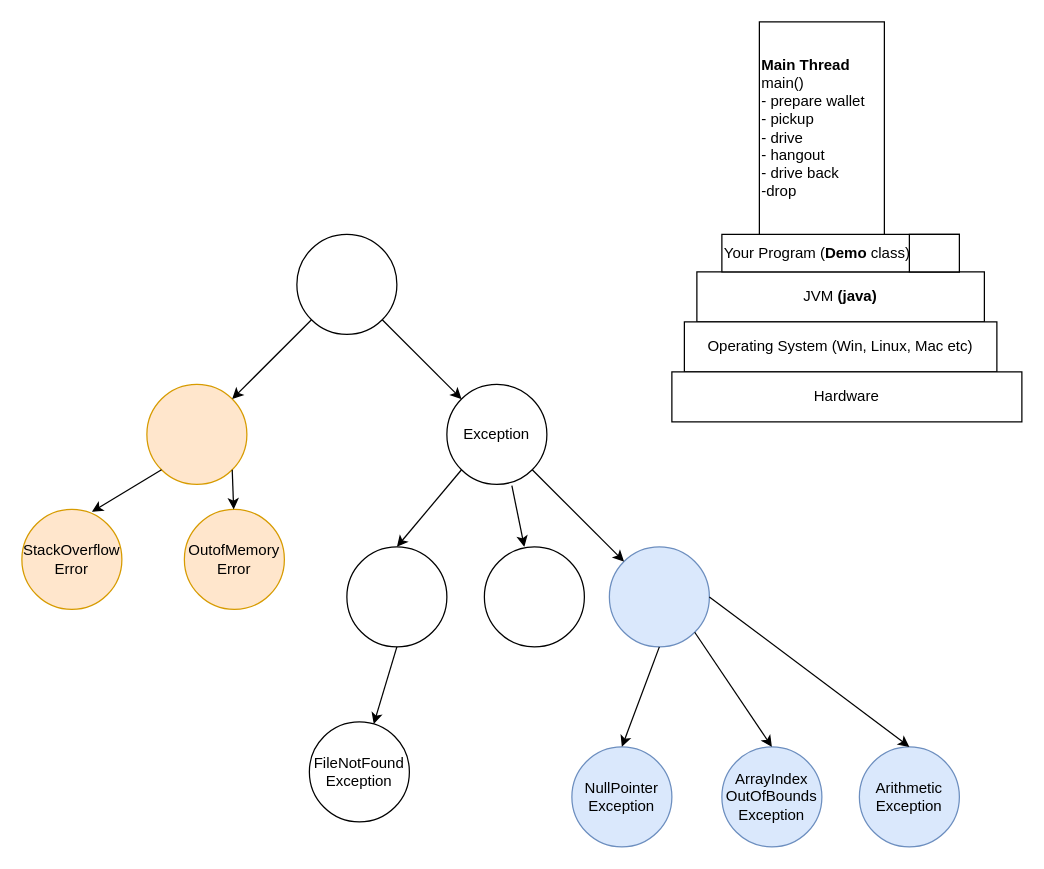
Some shapes in this 1044 by 869 pixel diagram are drawn without their labels. Here are the shapes that lost their labels. From the top down, the box of each, then its label:
(908, 233, 959, 272): libs
(296, 233, 397, 334): Throwable
(146, 383, 247, 484): Error
(346, 546, 447, 647): IOException
(483, 546, 584, 647): SQLException
(608, 546, 709, 647): Runtime Exception
